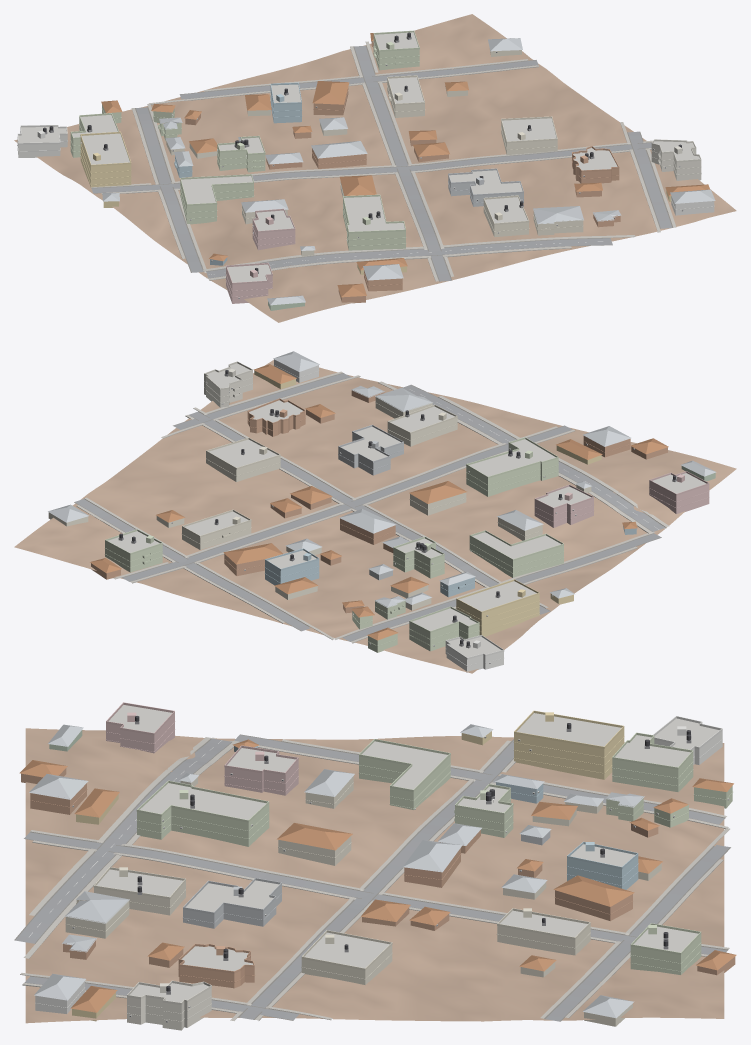
3 renders of one model, top to bottom at view 1: azimuth 30°, elevation 25°; view 2: azimuth 150°, elevation 25°; view 3: azimuth 270°, elevation 25°, orthographic. The views are drawn at different scales.
Visible parts, largest first — view 1: Terrain-col, Buildings-col, Roads-col, Sidewalks-col, Details; view 2: Terrain-col, Buildings-col, Roads-col, Details, Sidewalks-col; view 3: Terrain-col, Buildings-col, Roads-col, Details, Sidewalks-col.
Part boxes in pixels (box(x1,y1,x2,y2)): Terrain-col: box(14, 14, 736, 322); Buildings-col: box(17, 32, 715, 310); Roads-col: box(91, 45, 672, 281); Sidewalks-col: box(91, 41, 676, 281); Details: box(17, 30, 714, 298); Terrain-col: box(14, 360, 736, 673); Buildings-col: box(48, 351, 716, 672); Roads-col: box(74, 373, 665, 641); Details: box(105, 361, 709, 666); Sidewalks-col: box(76, 371, 669, 643); Terrain-col: box(25, 728, 724, 1023); Buildings-col: box(19, 705, 736, 1030); Roads-col: box(14, 734, 730, 1021); Details: box(30, 702, 732, 1022); Sidewalks-col: box(20, 737, 729, 1020).
Bounding box in the file's own units: 273 × 20.96 × 265.
